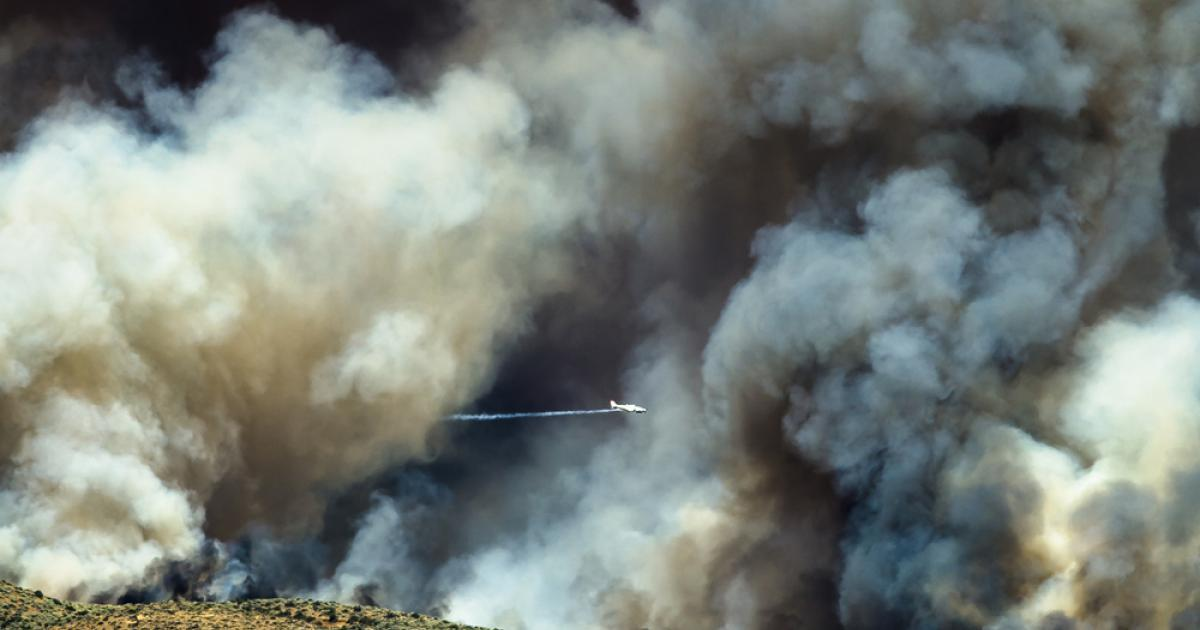smoke: (10, 55, 1200, 579)
